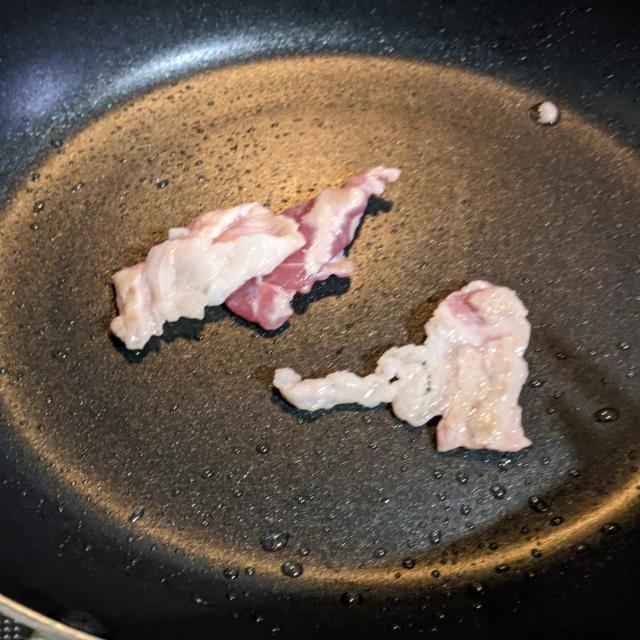NG undercooked pork,: (112, 161, 412, 359), (265, 274, 546, 463)
